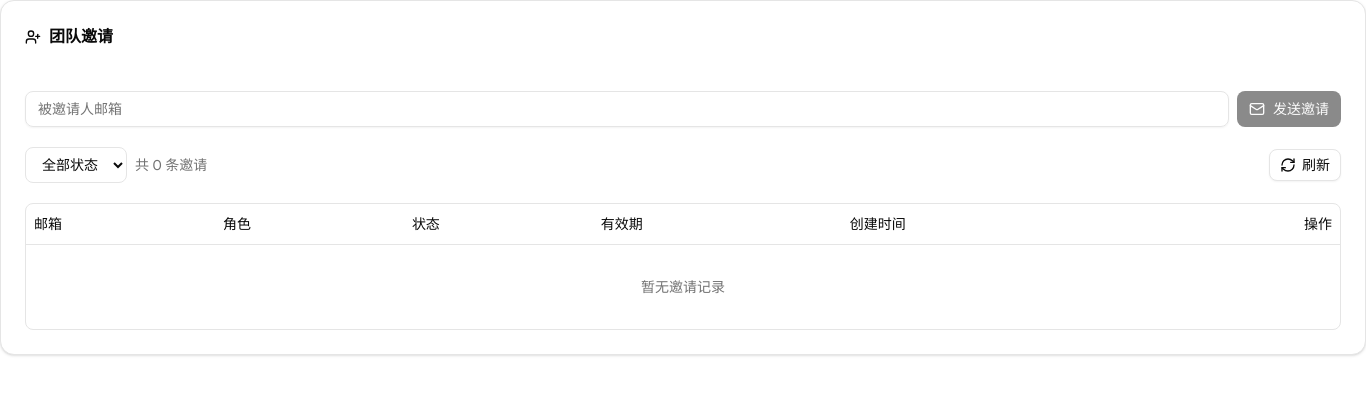
InvitationsManager - 创建邀请 › POST 失败 400 → 内联显示后端 error
The width and height of the screenshot is (1366, 405).
Check: the text "暂无邀请记录" is shown, box [26, 244, 1340, 328]
Type "dup@example.com" into the field with placeholder "被邀请人邮箱" at (627, 109), box [25, 91, 1229, 127]
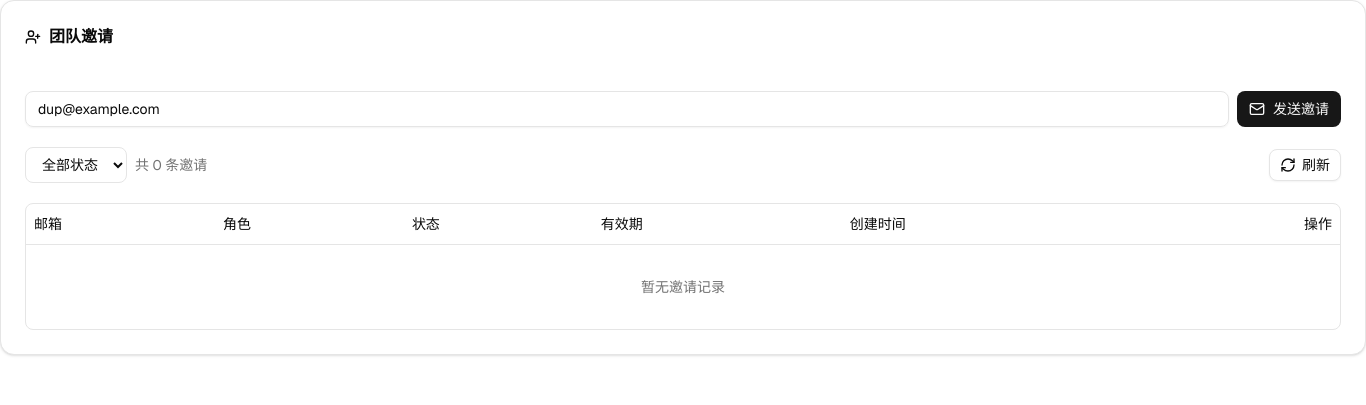
Click the button "发送邀请" at (1289, 109), box [1237, 91, 1341, 127]
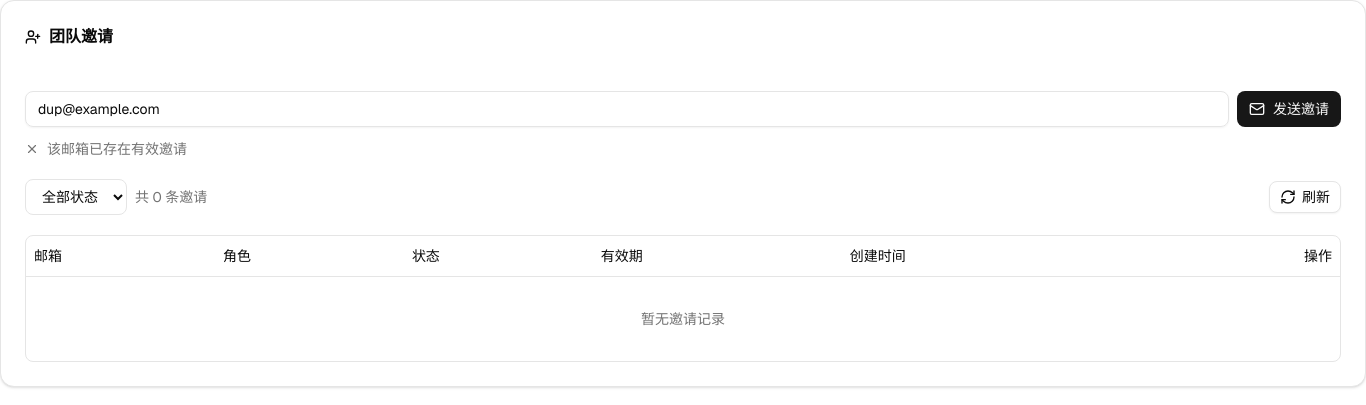
Check: the text "该邮箱已存在有效邀请" is shown, box [25, 140, 187, 158]
